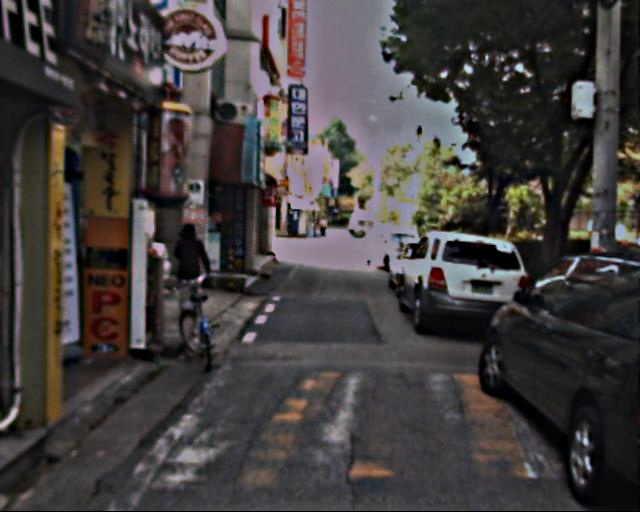person: (171, 218, 219, 318)
